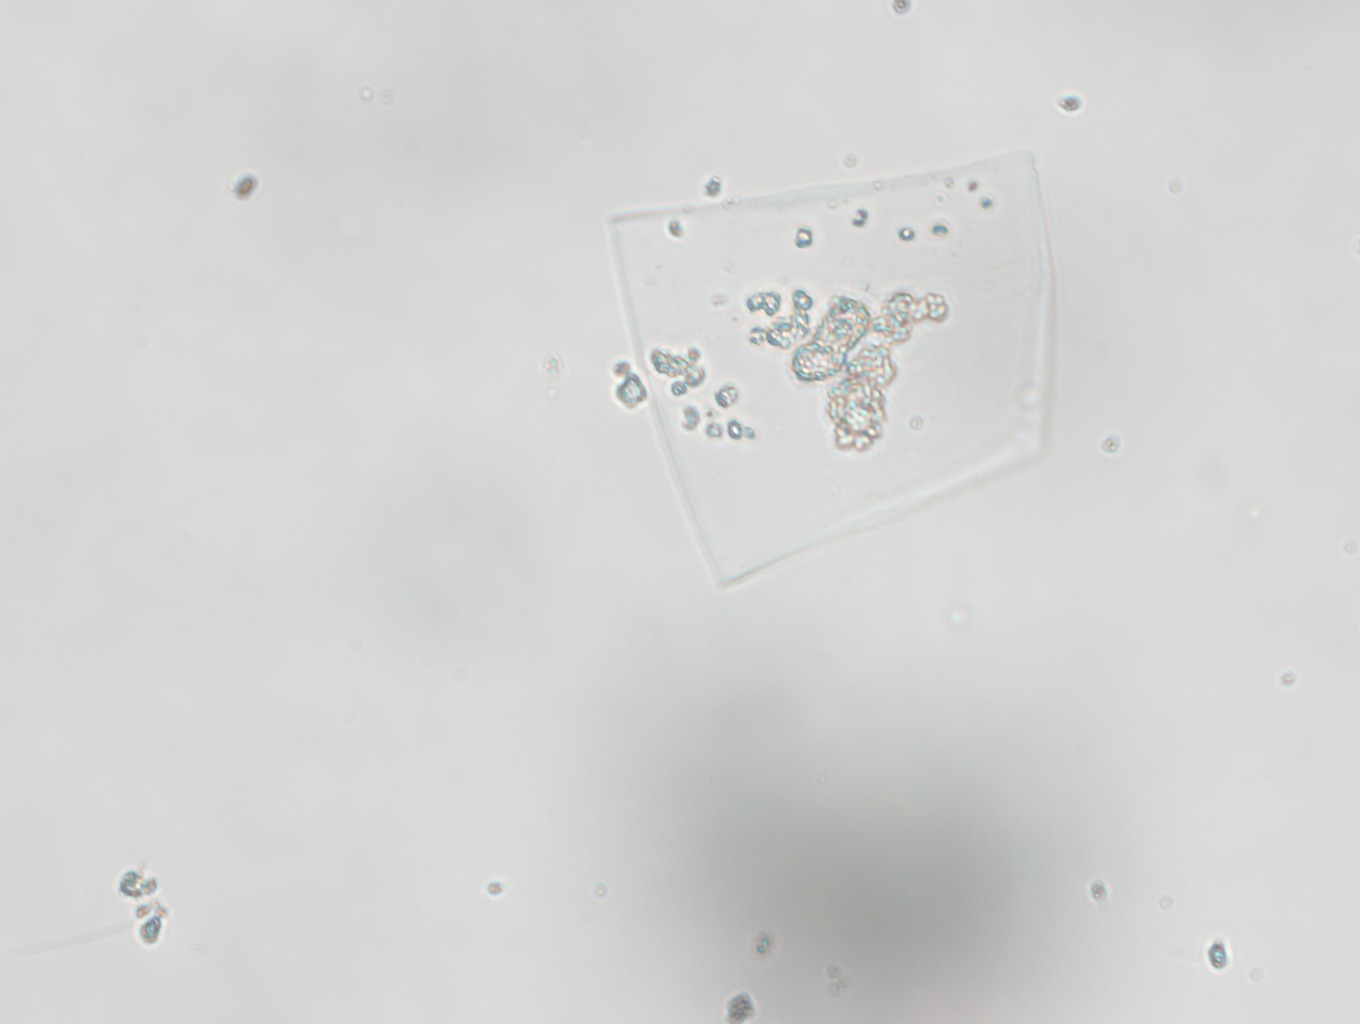helicotheca: (605, 146, 1069, 594)
